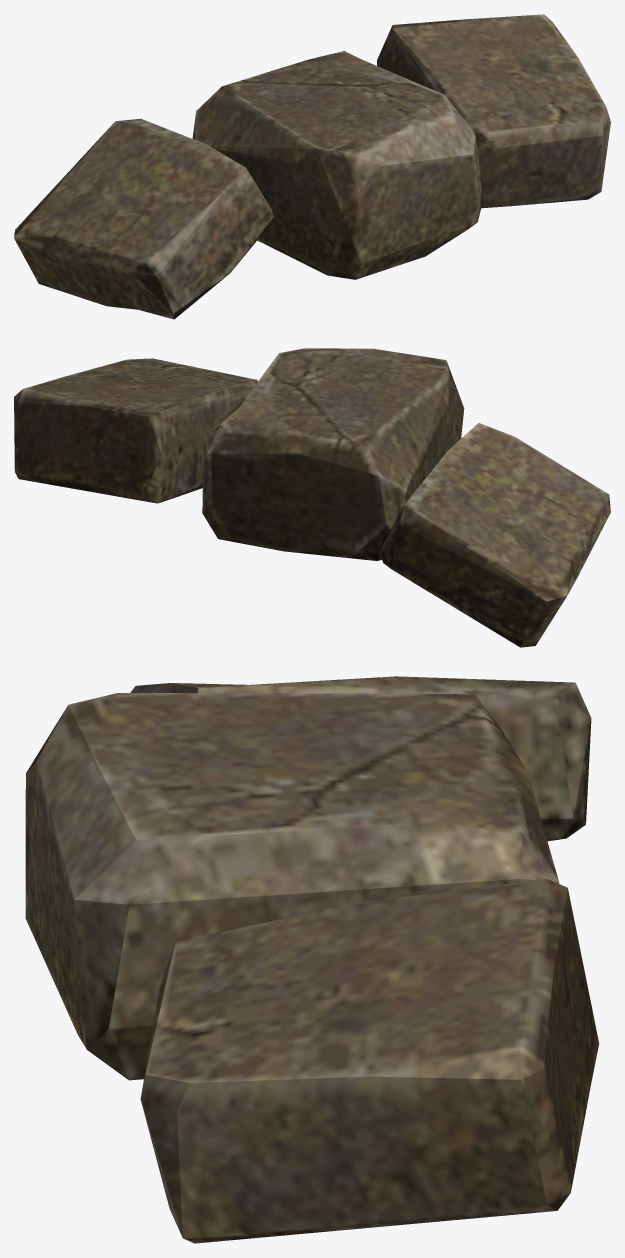
The model's file is miniboss_12.fbx.
The picture shows the model from 3 angles, top to bottom: view 1: azimuth 30°, elevation 25°; view 2: azimuth 150°, elevation 25°; view 3: azimuth 270°, elevation 25°; orthographic projection. The views are drawn at different scales.
Visible parts, largest first — view 1: Object02; view 2: Object02; view 3: Object02.
Boxes of the visible parts, x1,y1,x2,y2 form: Object02: [14, 14, 610, 319]; Object02: [14, 348, 610, 647]; Object02: [25, 676, 599, 1243].
Size of the model in its own units: 19.28 by 5.5 by 8.82.
